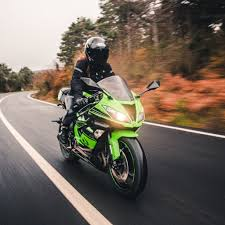moto: (55, 85, 152, 199)
person: (69, 35, 117, 119)
